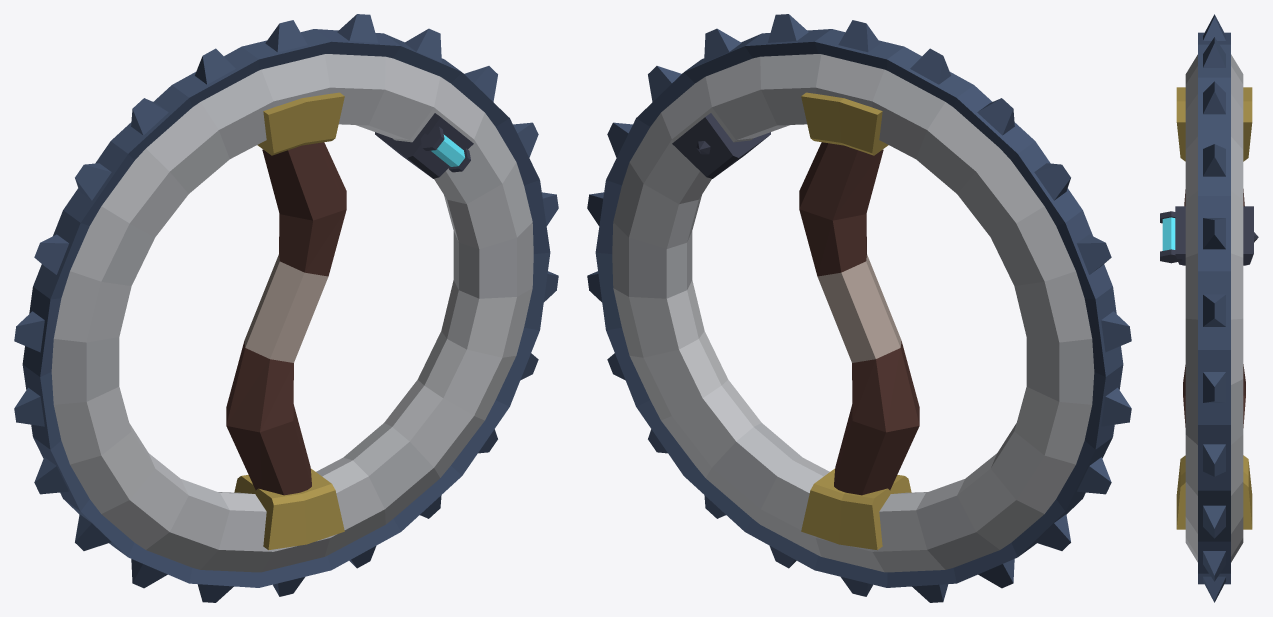
File: rueda.glb
3 views of the same model, side by side, from view 1: azimuth 30°, elevation 25°; view 2: azimuth 150°, elevation 25°; view 3: azimuth 270°, elevation 25° (orthographic). The views are drawn at different scales.
Visible parts, largest first — view 1: ring-body-metal, rim-mesh, ring-body, beacon-fittings; view 2: ring-body-metal, rim-mesh, ring-body, beacon-fittings; view 3: rim-mesh, ring-body-metal, beacon-fittings, beacon-lens, ring-body.
Boxes of the visible parts, bbox=[...] form: ring-body-metal: bbox=[51, 54, 533, 572]; rim-mesh: bbox=[14, 14, 558, 602]; ring-body: bbox=[226, 142, 346, 495]; beacon-fittings: bbox=[375, 113, 473, 178]; ring-body-metal: bbox=[612, 54, 1094, 572]; rim-mesh: bbox=[587, 14, 1131, 602]; ring-body: bbox=[799, 142, 919, 495]; beacon-fittings: bbox=[672, 113, 770, 178]; rim-mesh: bbox=[1198, 14, 1230, 602]; ring-body-metal: bbox=[1176, 54, 1252, 562]; beacon-fittings: bbox=[1160, 206, 1258, 265]; beacon-lens: bbox=[1162, 217, 1175, 250]; ring-body: bbox=[1183, 189, 1245, 427].
Bounding box in the file's own units: 0.4292 × 0.432 × 0.072.
